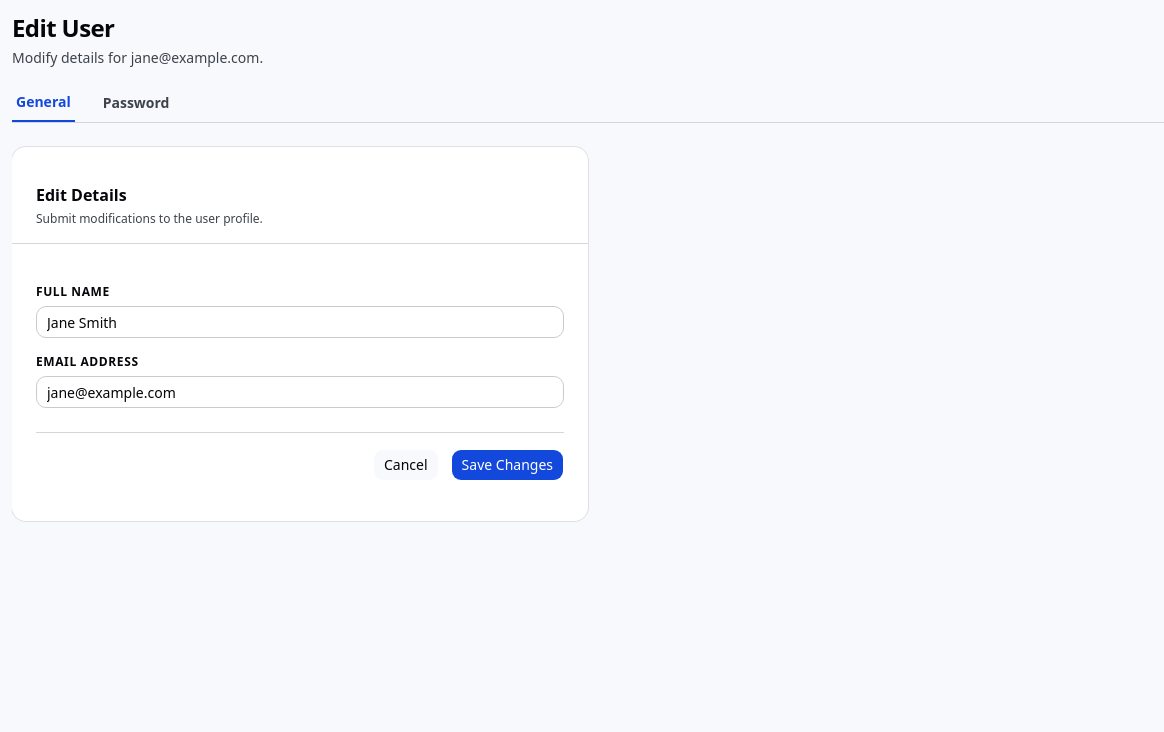
EditUserForm Component › should show mismatch warning when passwords do not match
Click the button "Password": click(136, 107) [99, 92, 174, 122]
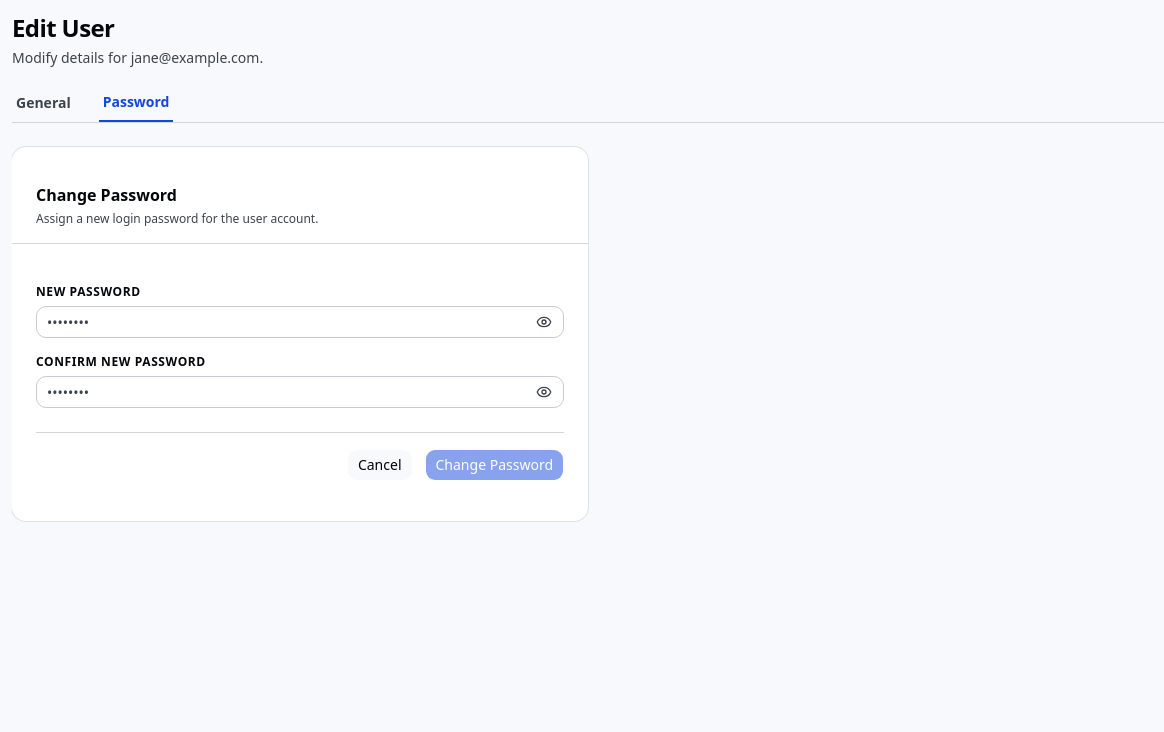
In the password field labelled "New Password": (300, 322) [36, 306, 564, 338], type "UserPass123!"
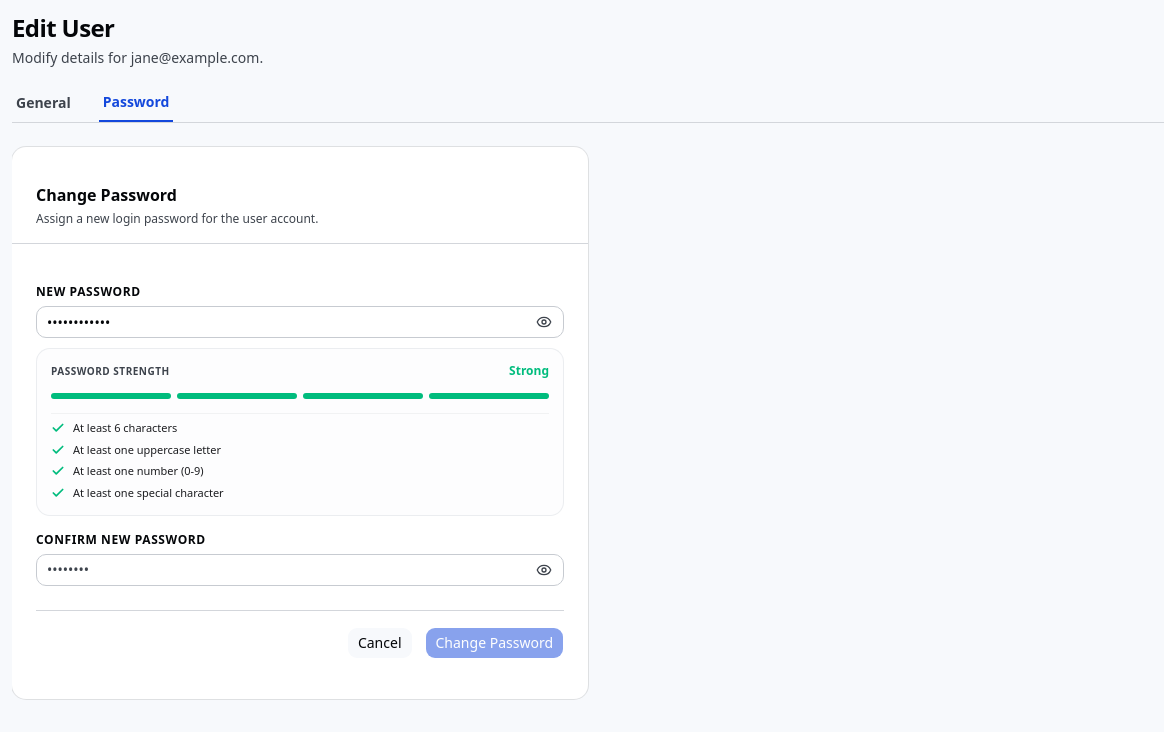
In the password field labelled "Confirm New Password": (300, 570) [36, 554, 564, 586], type "UserPass456!"
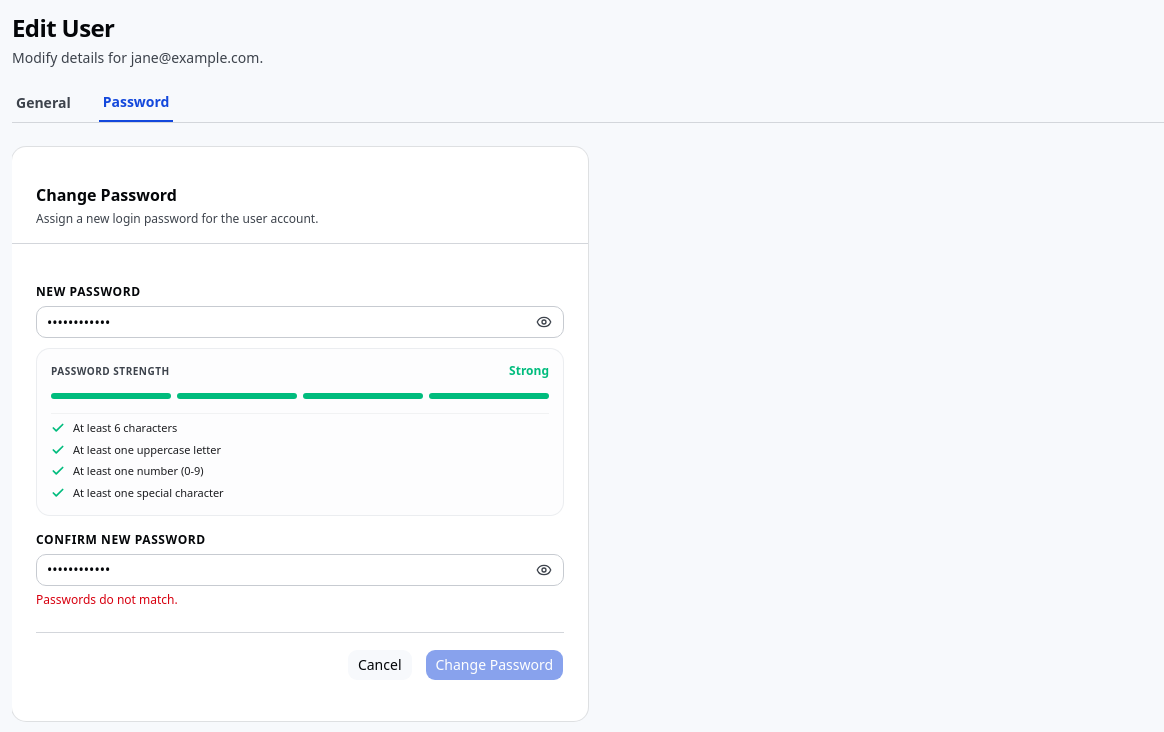
Result: the text "Passwords do not match." is shown at [36, 591, 178, 608]
